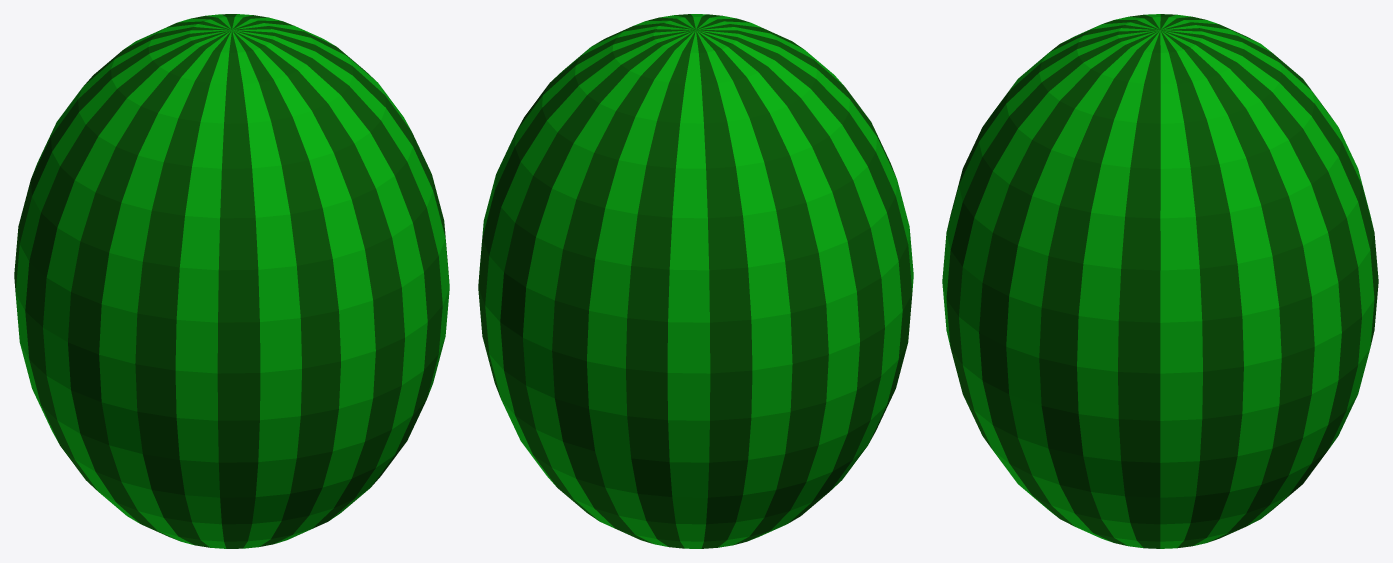
Rendered from watermelon.fbx.
The picture shows the model from 3 angles, left to right: view 1: azimuth 30°, elevation 25°; view 2: azimuth 150°, elevation 25°; view 3: azimuth 270°, elevation 25°; orthographic projection.
Visible parts, largest first — view 1: Sphere; view 2: Sphere; view 3: Sphere.
Part boxes in pixels (x1,y1,x2,y2): Sphere: (14,14,449,548); Sphere: (478,14,913,548); Sphere: (942,14,1378,548).
Size of the model in its own units: 200 by 254 by 200.
